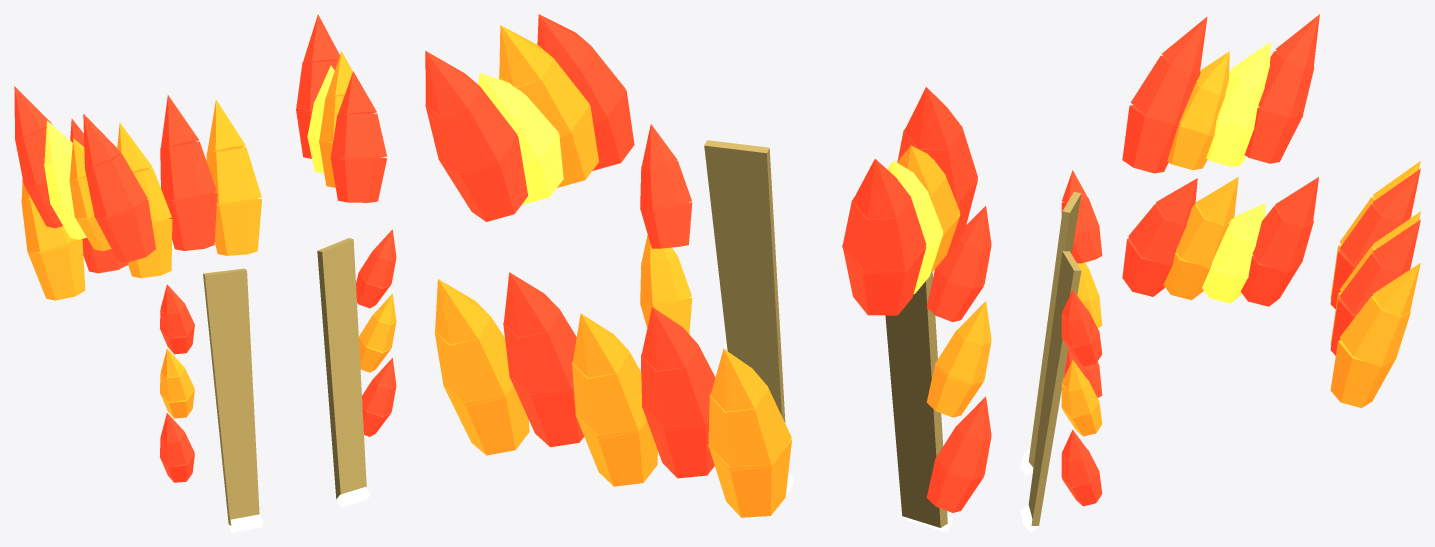
The model's file is caldris_robes.glb.
3 views of the same model, side by side, from view 1: azimuth 30°, elevation 25°; view 2: azimuth 150°, elevation 25°; view 3: azimuth 270°, elevation 25° (orthographic). The views are drawn at different scales.
Parts seen in each view (by area): view 1: caldris_robes; view 2: caldris_robes; view 3: caldris_robes.
Part boxes in pixels (left/top/right/bottom): caldris_robes: left=14, top=14, right=396, bottom=532; caldris_robes: left=425, top=14, right=991, bottom=532; caldris_robes: left=1020, top=14, right=1420, bottom=532.
Bounding box in the file's own units: 1.04 × 1.17 × 1.04.
